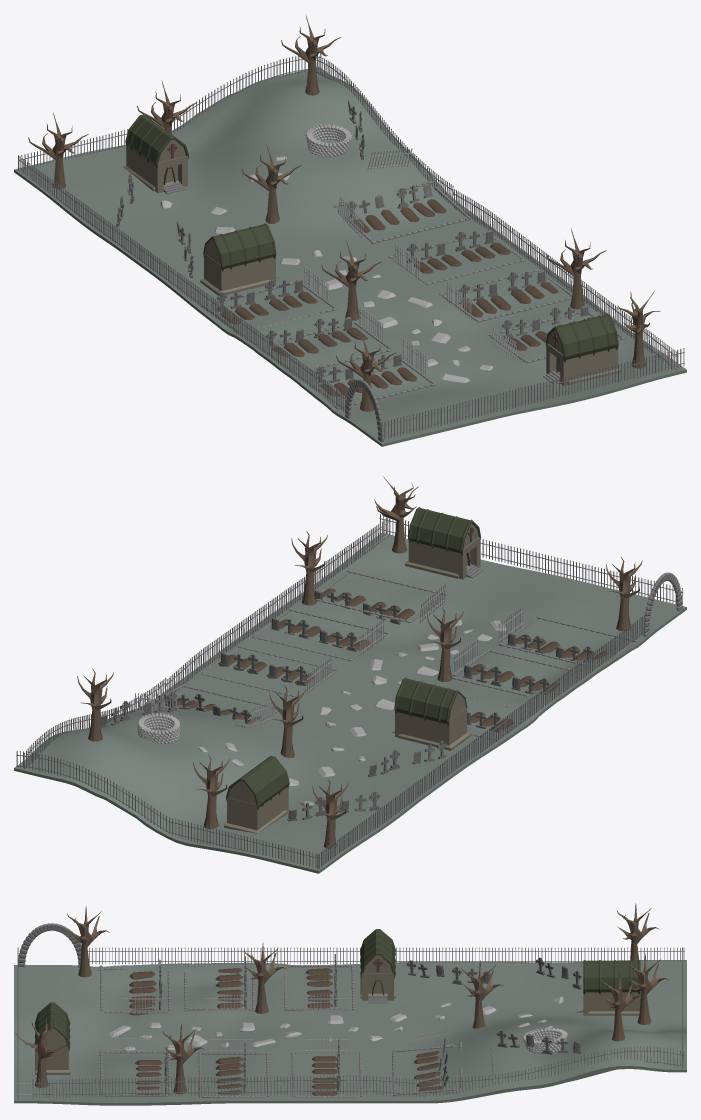
The model's file is GraveyardEnvironmentV2.fbx.
3 renders of one model, top to bottom at view 1: azimuth 30°, elevation 25°; view 2: azimuth 150°, elevation 25°; view 3: azimuth 270°, elevation 25°, orthographic. The views are drawn at different scales.
Parts seen in each view (by area): view 1: Landscape, Mosoleum1 (×3), MASH1_ReproMesh1, MASH1_ReproMesh, MASH2_ReproMesh, MASH2_ReproMesh1, Well, pCylinder7, pCylinder1, pCylinder2, pCylinder3, pCylinder5 (+5 smaller); view 2: Landscape, Mosoleum1 (×3), MASH1_ReproMesh1, MASH1_ReproMesh, MASH2_ReproMesh1, MASH2_ReproMesh, Well, pCylinder4, pCylinder7, pCylinder8, pCylinder3, pCylinder6 (+5 smaller); view 3: Landscape, MASH1_ReproMesh, MASH1_ReproMesh1, Mosoleum1 (×3), polySurface1 (×2), pCylinder3, pCylinder6, pCylinder7, pCylinder8, pCylinder4, pCylinder1, pCylinder2 (+14 smaller).
Boxes of the visible parts, bbox=[...] form: Landscape: bbox=[14, 66, 686, 446]; Mosoleum1 (×3): bbox=[123, 146, 621, 385]; MASH1_ReproMesh1: bbox=[18, 155, 345, 411]; MASH1_ReproMesh: bbox=[315, 55, 668, 361]; MASH2_ReproMesh: bbox=[381, 348, 684, 439]; MASH2_ReproMesh1: bbox=[18, 53, 321, 170]; Well: bbox=[305, 124, 351, 156]; pCylinder7: bbox=[546, 228, 606, 309]; pCylinder1: bbox=[281, 14, 341, 95]; pCylinder2: bbox=[241, 143, 301, 223]; pCylinder3: bbox=[321, 240, 381, 320]; pCylinder5: bbox=[28, 112, 88, 188]; Landscape: bbox=[14, 533, 686, 873]; Mosoleum1 (×3): bbox=[224, 537, 480, 833]; MASH1_ReproMesh1: bbox=[317, 615, 645, 869]; MASH1_ReproMesh: bbox=[24, 523, 380, 768]; MASH2_ReproMesh1: bbox=[16, 751, 319, 868]; MASH2_ReproMesh: bbox=[379, 514, 683, 604]; Well: bbox=[137, 713, 180, 744]; pCylinder4: bbox=[374, 476, 418, 553]; pCylinder7: bbox=[291, 531, 327, 605]; pCylinder8: bbox=[193, 755, 229, 828]; pCylinder3: bbox=[427, 607, 463, 681]; pCylinder6: bbox=[606, 557, 642, 631]; Landscape: bbox=[14, 960, 686, 1105]; MASH1_ReproMesh: bbox=[32, 1046, 684, 1097]; MASH1_ReproMesh1: bbox=[88, 947, 684, 964]; Mosoleum1 (×3): bbox=[35, 973, 640, 1074]; polySurface1 (×2): bbox=[360, 947, 598, 994]; pCylinder3: bbox=[244, 942, 286, 1013]; pCylinder6: bbox=[67, 906, 109, 977]; pCylinder7: bbox=[162, 1023, 204, 1094]; pCylinder8: bbox=[626, 953, 668, 1024]; pCylinder4: bbox=[15, 1020, 68, 1087]; pCylinder1: bbox=[600, 971, 642, 1041]; pCylinder2: bbox=[461, 960, 503, 1028].
Size of the model in its own units: 52.24 by 21 by 105.
